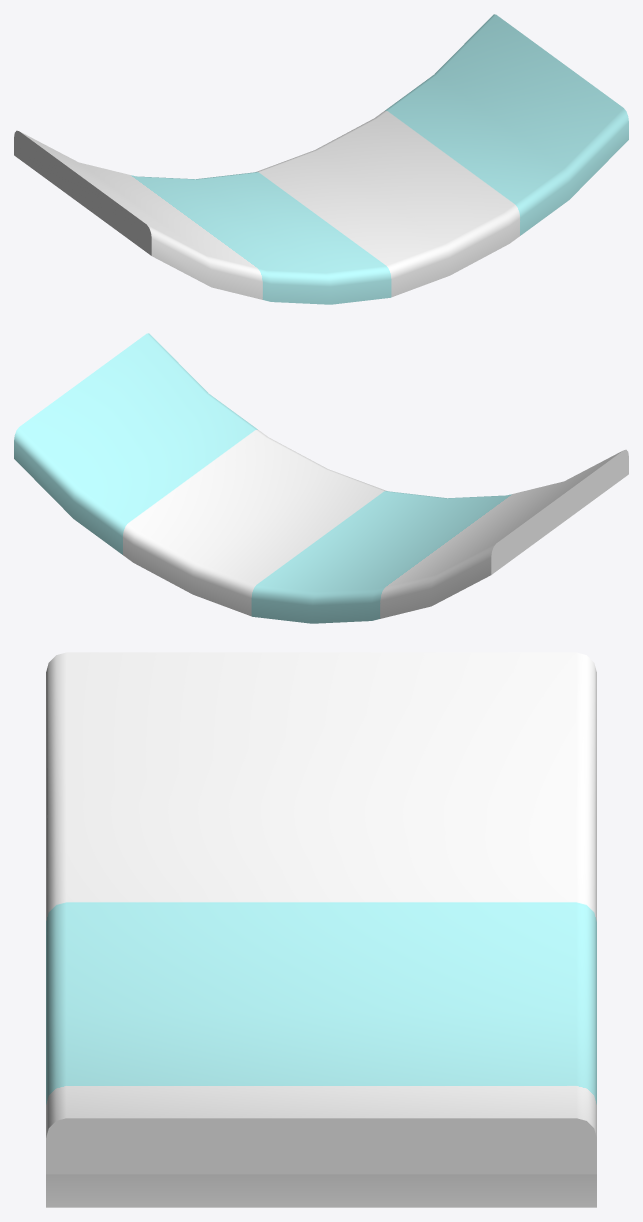
File: RoadDown_blue.fbx
3 renders of one model, top to bottom at view 1: azimuth 30°, elevation 25°; view 2: azimuth 150°, elevation 25°; view 3: azimuth 270°, elevation 25°, orthographic. The views are drawn at different scales.
Parts seen in each view (by area): view 1: RoadDown; view 2: RoadDown; view 3: RoadDown.
Boxes of the visible parts, left/top/right/bottom form: RoadDown: left=14, top=14, right=628, bottom=304; RoadDown: left=14, top=333, right=628, bottom=623; RoadDown: left=46, top=652, right=596, bottom=1207.
Bounding box in the file's own units: 600 × 154 × 300.
Materials: 1 (1 with a texture image).
